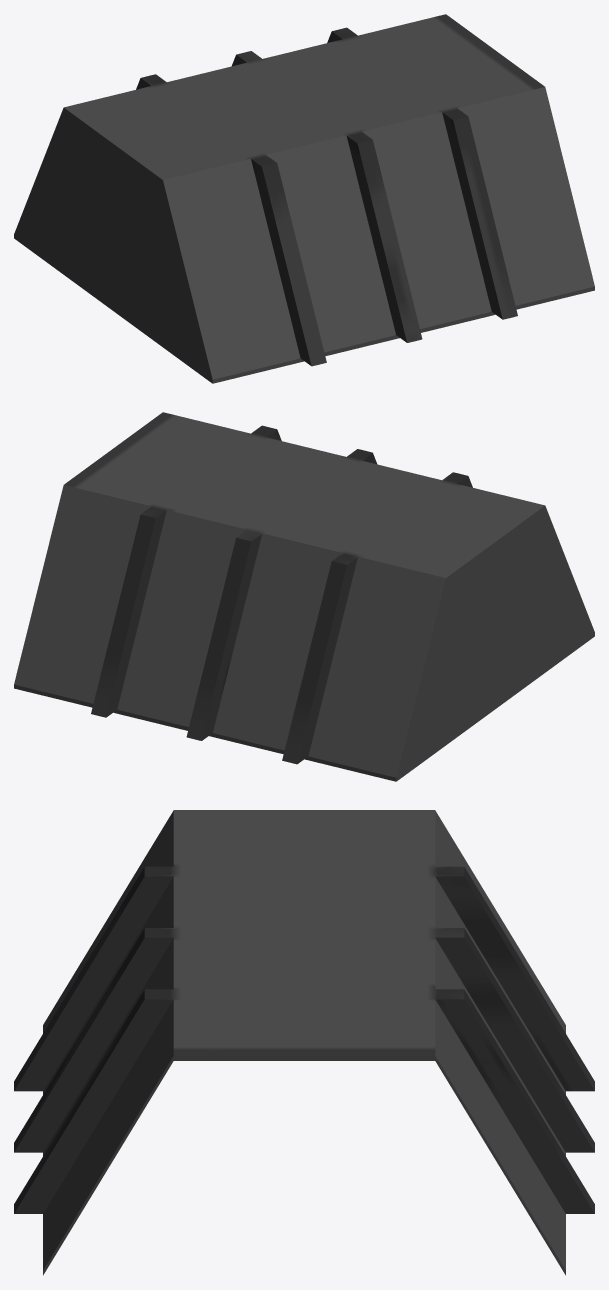
Rendered from tunnel.gltf.
The picture shows the model from 3 angles, top to bottom: view 1: azimuth 30°, elevation 25°; view 2: azimuth 150°, elevation 25°; view 3: azimuth 270°, elevation 25°; orthographic projection. The views are drawn at different scales.
Visible parts, largest first — view 1: Cube; view 2: Cube; view 3: Cube.
Boxes of the visible parts, x1,y1,x2,y2 form: Cube: (14, 14, 594, 383); Cube: (14, 412, 594, 781); Cube: (14, 810, 594, 1275).
Size of the model in its own units: 200 by 83.64 by 200.
1 material, 1 textured.
